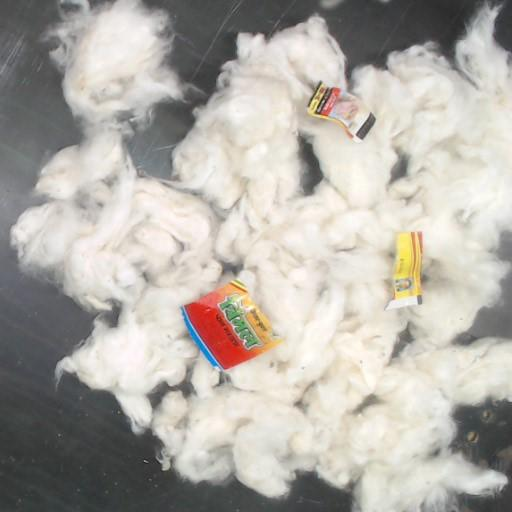conveyor belt: (130, 0, 479, 177), (454, 401, 511, 511), (459, 271, 511, 343), (302, 144, 320, 190), (496, 0, 511, 52), (500, 235, 511, 262)
cotton: (10, 0, 511, 511)
packet: (181, 278, 279, 370), (307, 82, 375, 139), (386, 231, 421, 309)
